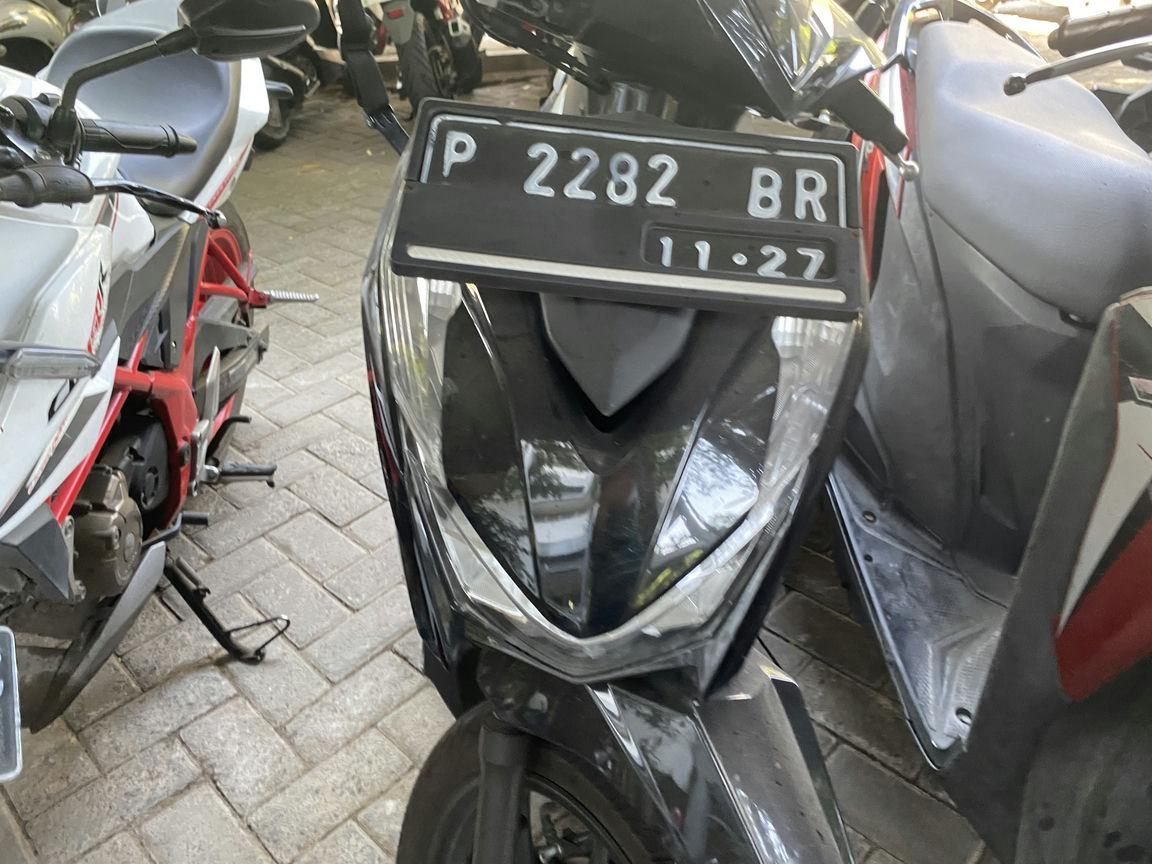plat: (394, 101, 862, 322)
